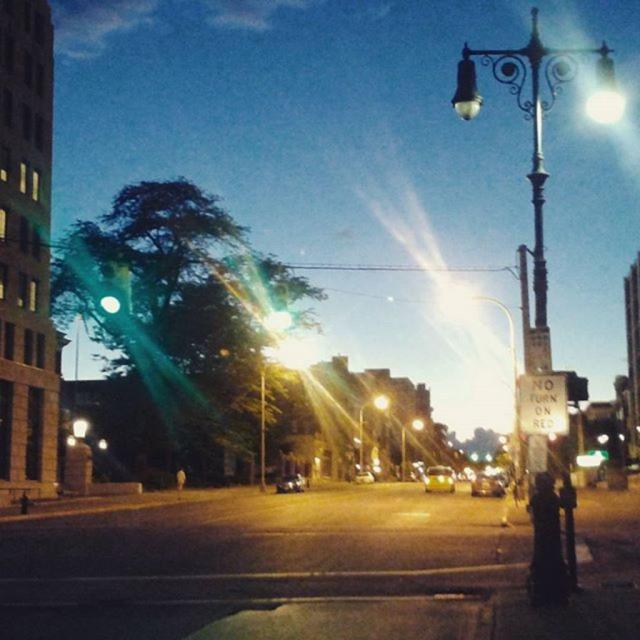traffic light: (96, 255, 135, 315)
